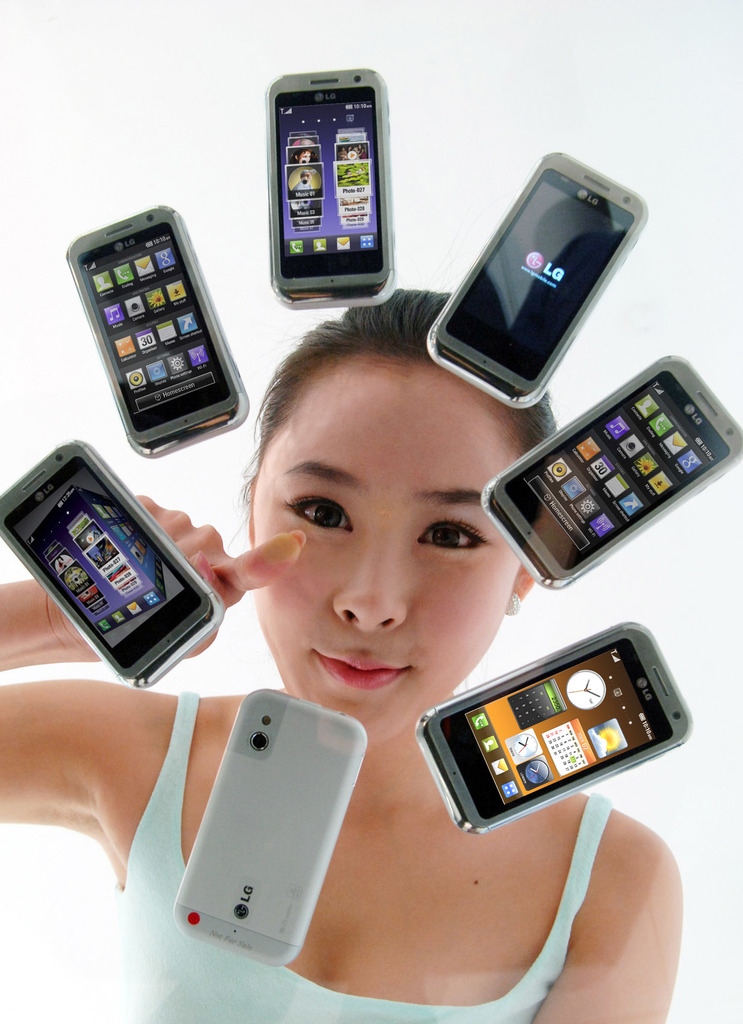Mobile-phone: (480, 353, 742, 587), (410, 619, 689, 830), (167, 687, 375, 966), (424, 148, 646, 409), (0, 435, 221, 685), (69, 204, 250, 458), (265, 68, 393, 314)
